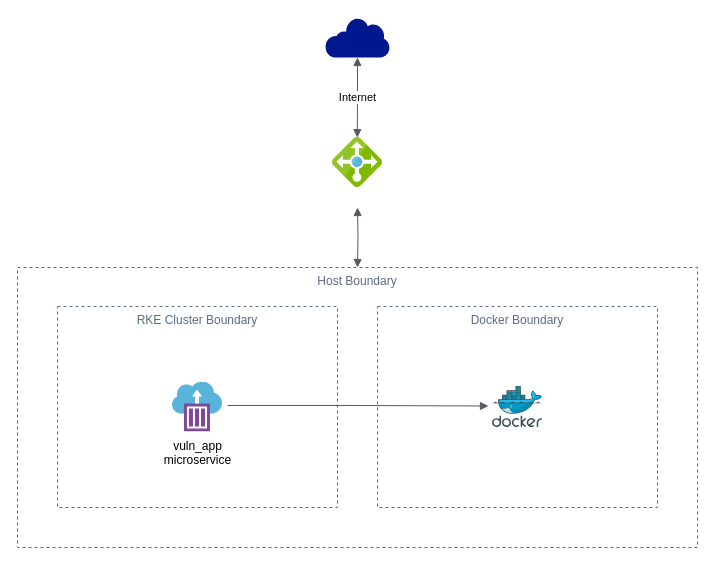
Some shapes in this 715 by 565 pixel diagram are drawn without their labels. Each missing label, with the centre of its shape:
api-gateway: the point at 357,162
Docker Daemon: the point at 517,406
